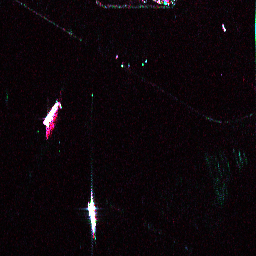ship: (39, 98, 63, 128), (86, 200, 97, 229), (218, 21, 229, 34)
